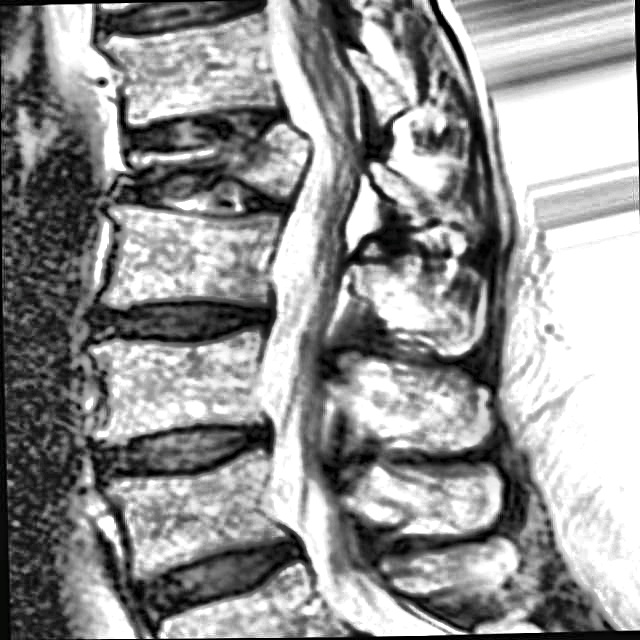Comminuted: (86, 85, 330, 231)
